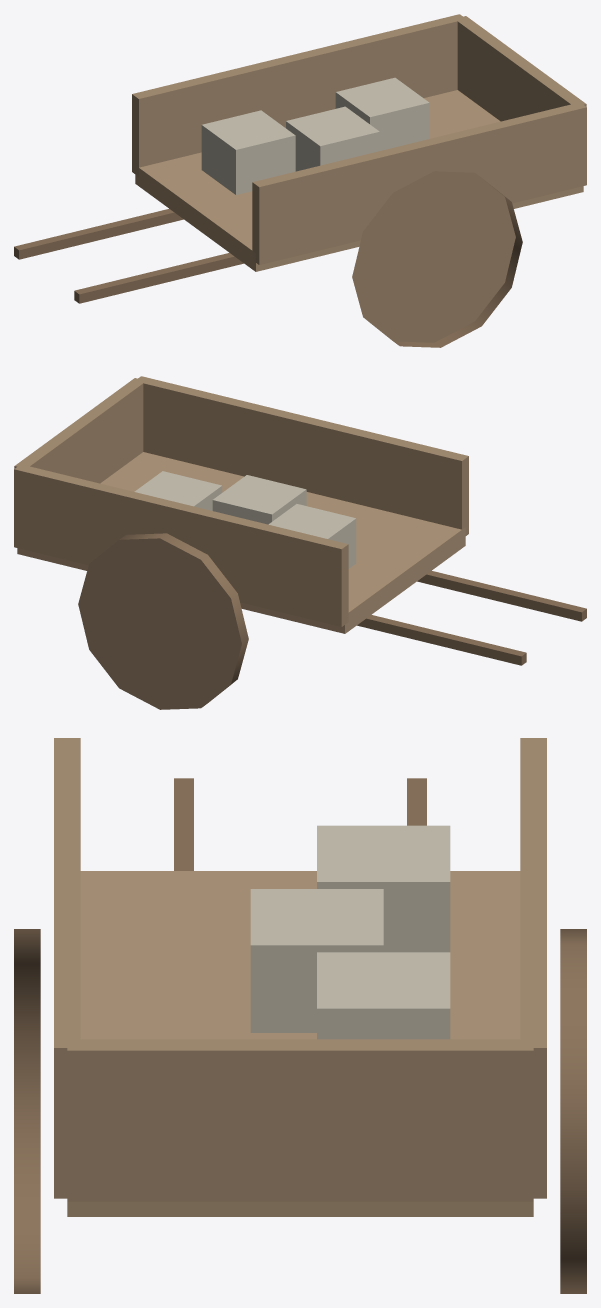
Rendered from cart_up.glb.
3 renders of one model, top to bottom at view 1: azimuth 30°, elevation 25°; view 2: azimuth 150°, elevation 25°; view 3: azimuth 270°, elevation 25°, orthographic. The views are drawn at different scales.
Parts seen in each view (by area): view 1: cart_up; view 2: cart_up; view 3: cart_up.
Part boxes in pixels (x1,y1,x2,y2): cart_up: [14, 14, 586, 347]; cart_up: [14, 376, 586, 709]; cart_up: [14, 738, 586, 1293].
Bounding box in the file's own units: 3.22 × 1.25 × 1.72.
